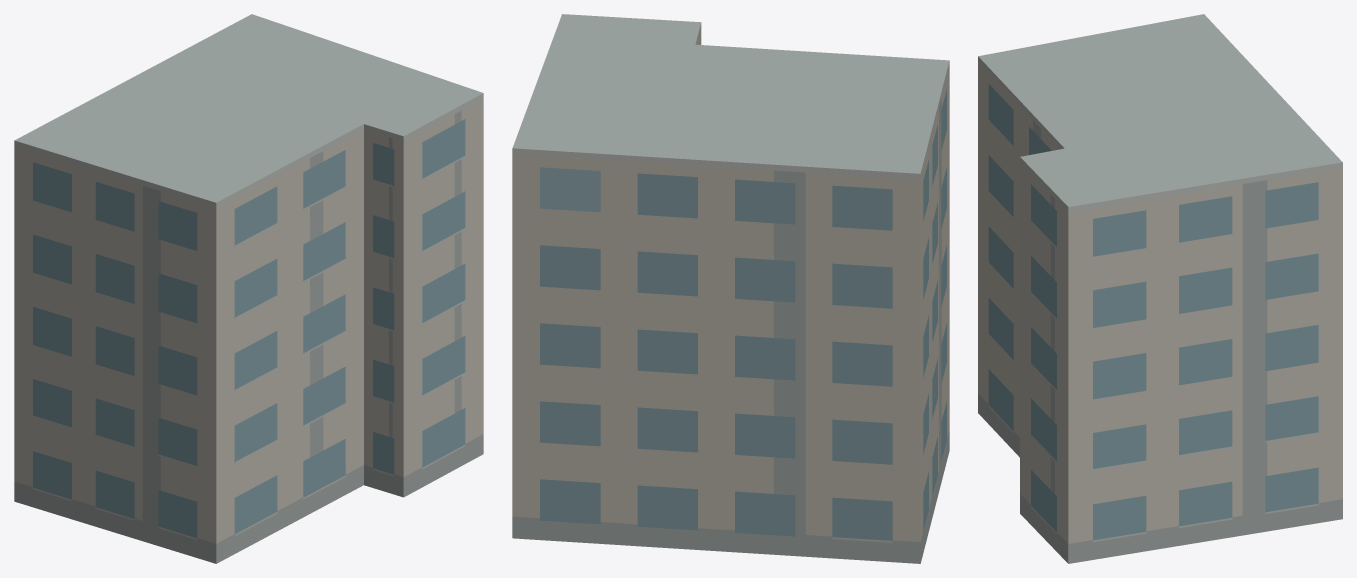
File: survey-upis-32975537.glb
3 renders of one model, left to right at view 1: azimuth 30°, elevation 25°; view 2: azimuth 150°, elevation 25°; view 3: azimuth 270°, elevation 25°, orthographic. The views are drawn at different scales.
Visible parts, largest first — view 1: survey-upis-32975537.tmp; view 2: survey-upis-32975537.tmp; view 3: survey-upis-32975537.tmp.
Part boxes in pixels (x1,y1,x2,y2): survey-upis-32975537.tmp: (14,14,483,563); survey-upis-32975537.tmp: (512,14,949,563); survey-upis-32975537.tmp: (978,14,1342,563).
Size of the model in its own units: 18.81 by 16.2 by 15.02.
